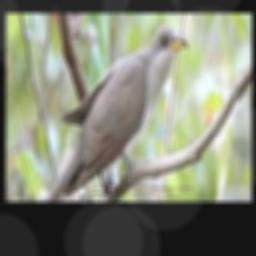Cuckoo: (46, 24, 188, 202)
